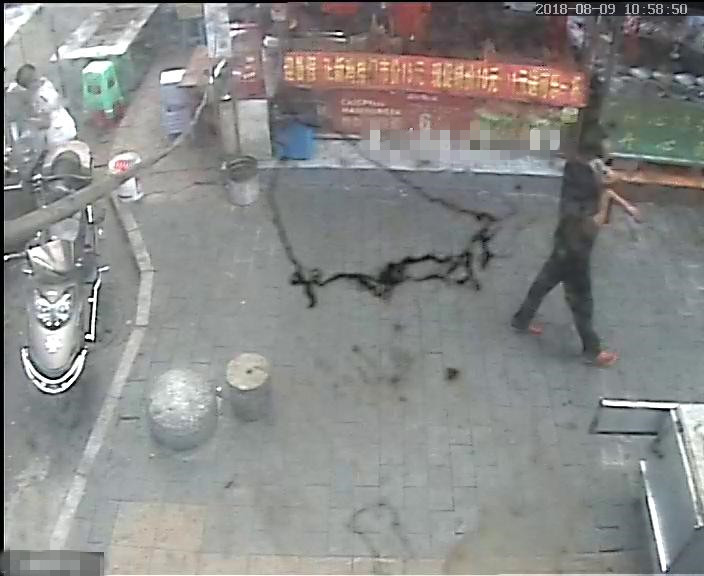vendors: (593, 384, 702, 567), (9, 4, 89, 247)
